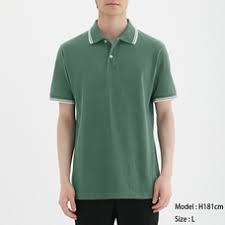C_polo shirt: (53, 25, 181, 219)
